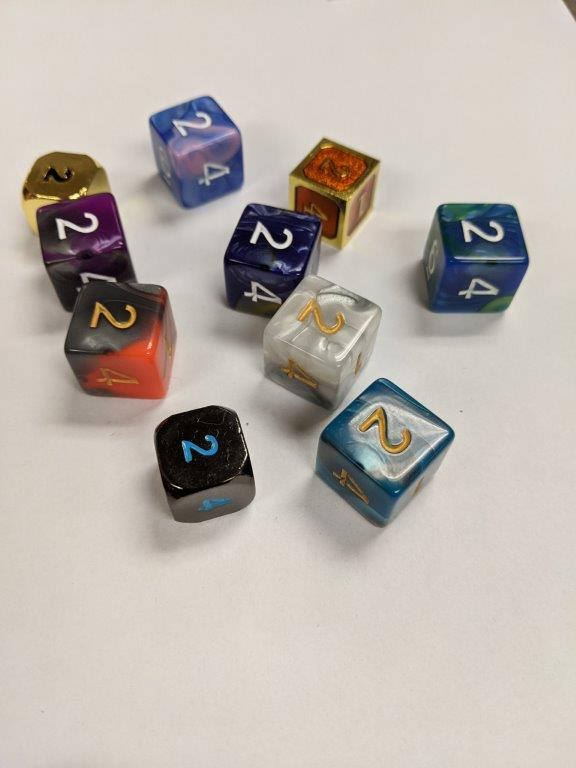d6-2: (314, 375, 455, 523), (262, 273, 382, 409), (61, 278, 179, 399), (154, 404, 256, 528), (422, 204, 528, 320), (147, 94, 246, 208), (223, 202, 323, 313), (35, 193, 136, 296), (289, 136, 382, 247), (22, 150, 103, 201)
